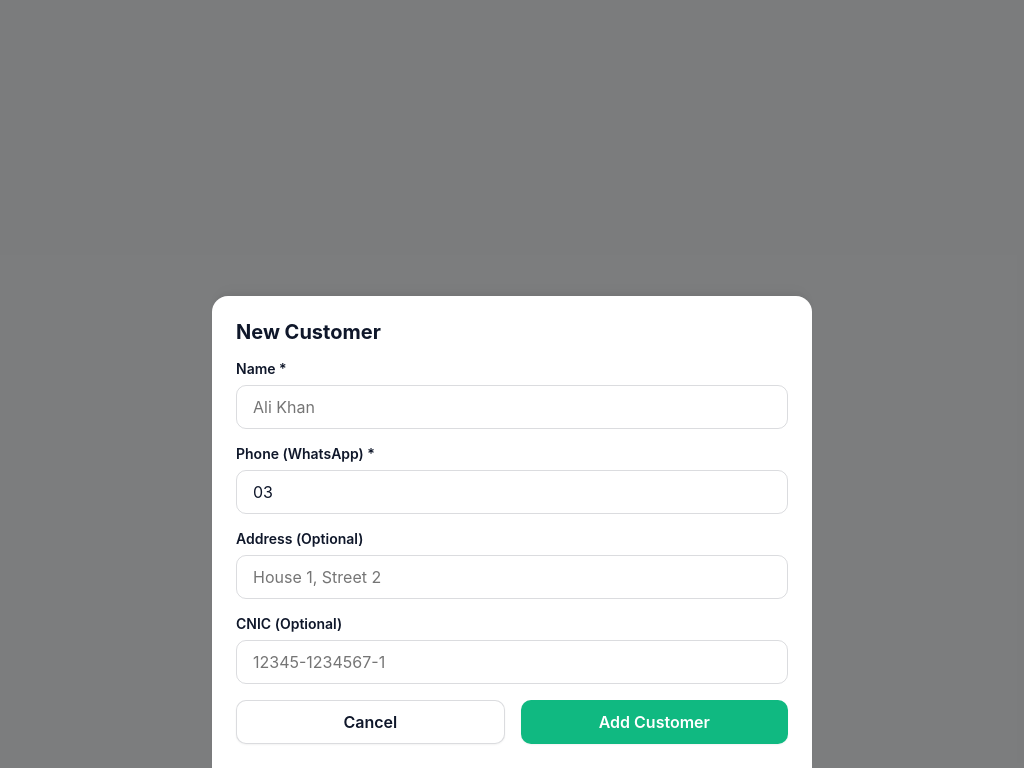
Test case: NewCustomerForm (CustomerForm) › Name sanitization › strips symbols from name field
Step 1. Type "Ali!@#Khan" into the field labelled "Name *" → (512, 407), box [236,385,788,429]
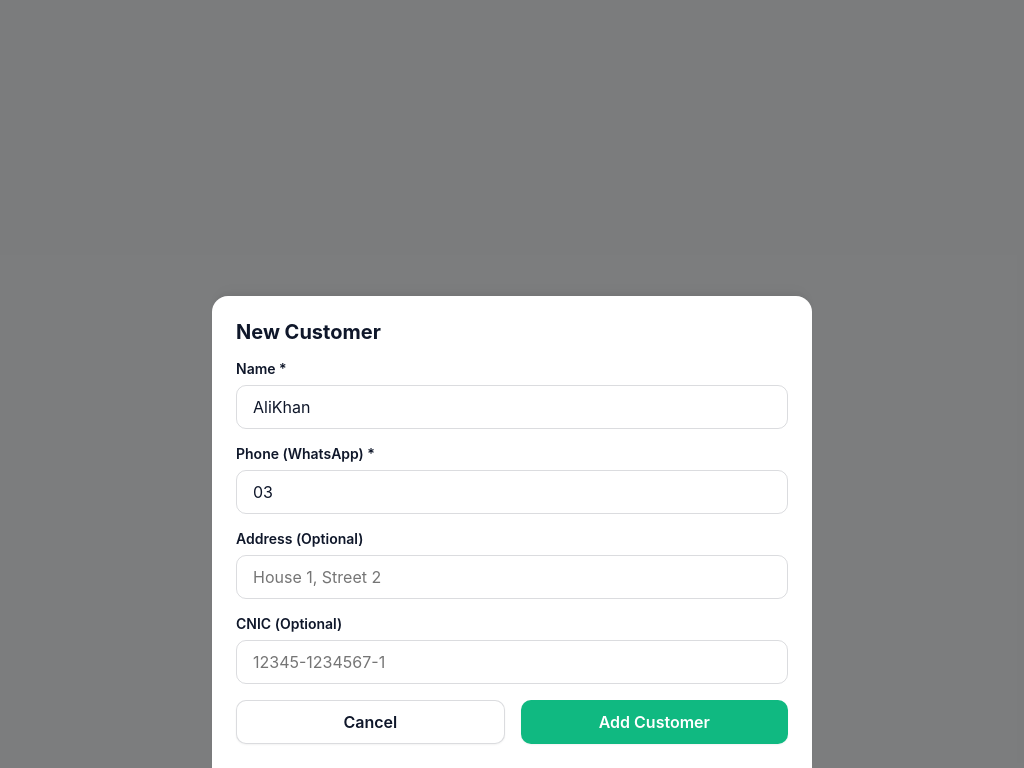
Expected: the field labelled "Name *" holds "AliKhan", [236,385,788,429]
